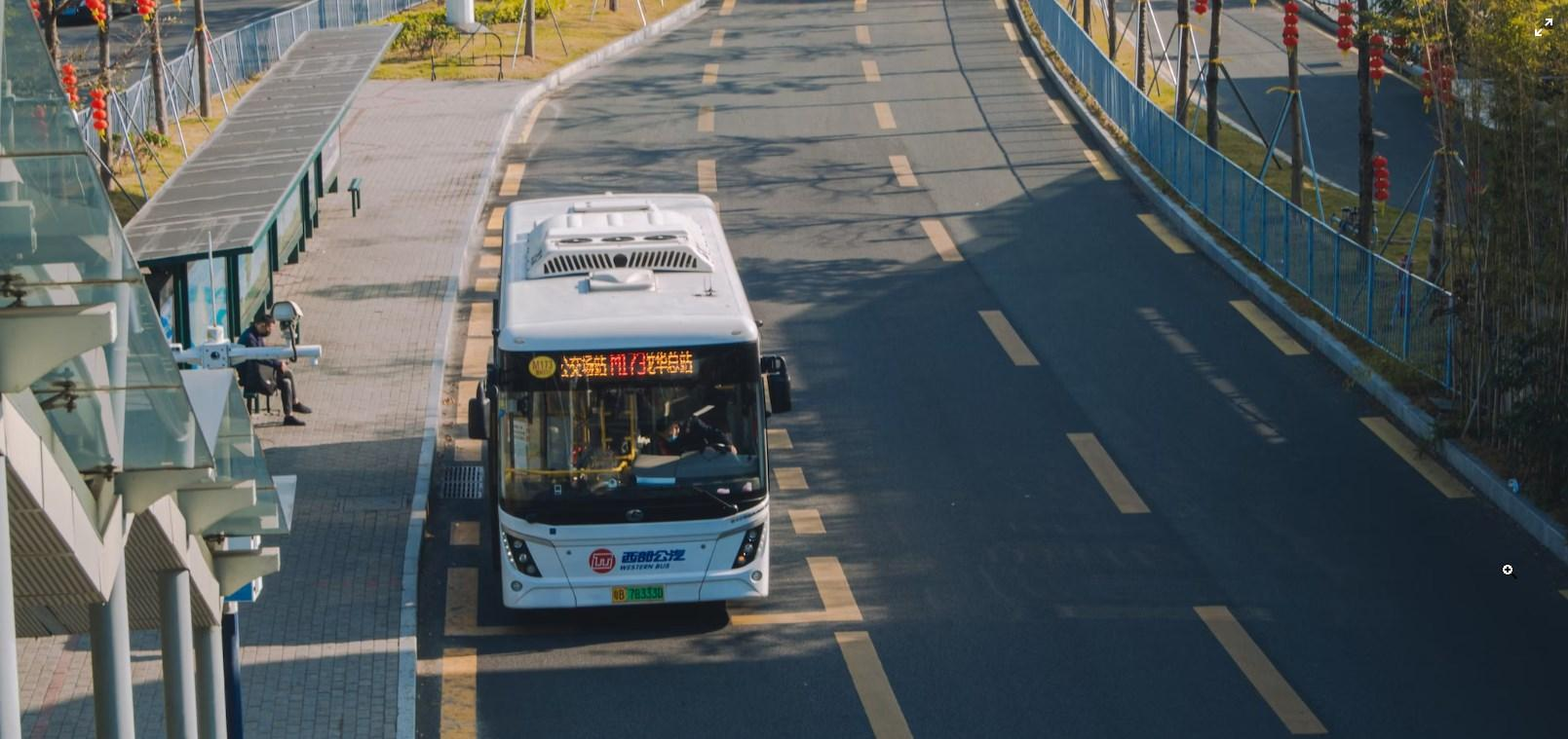vehicle: (466, 192, 793, 609)
